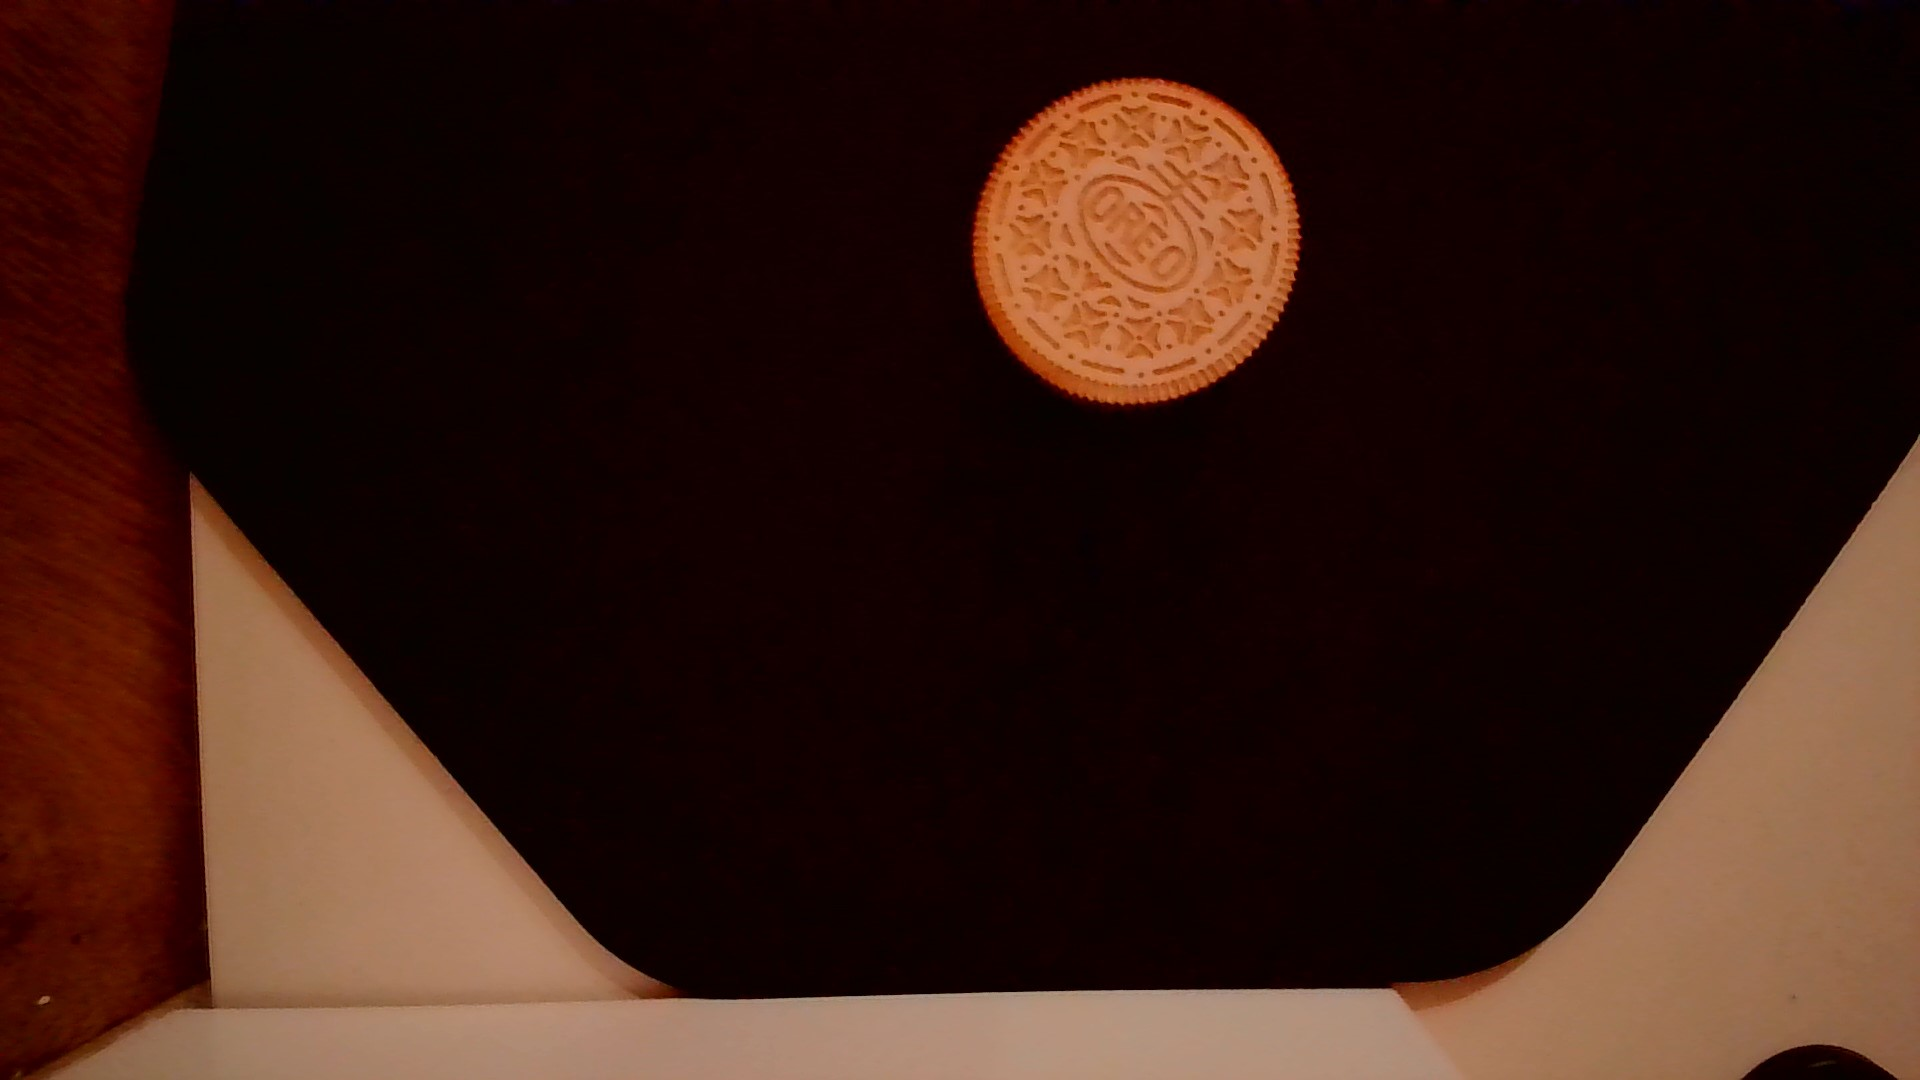Oréo: (963, 69, 1307, 411)
